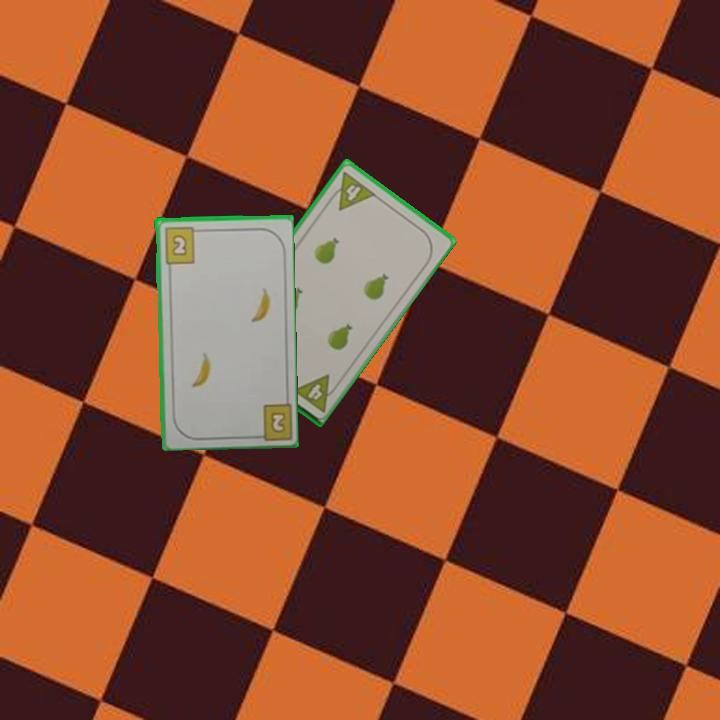2b: (161, 223, 203, 266), (267, 408, 288, 435)
4p: (324, 168, 378, 213), (288, 370, 342, 415)
